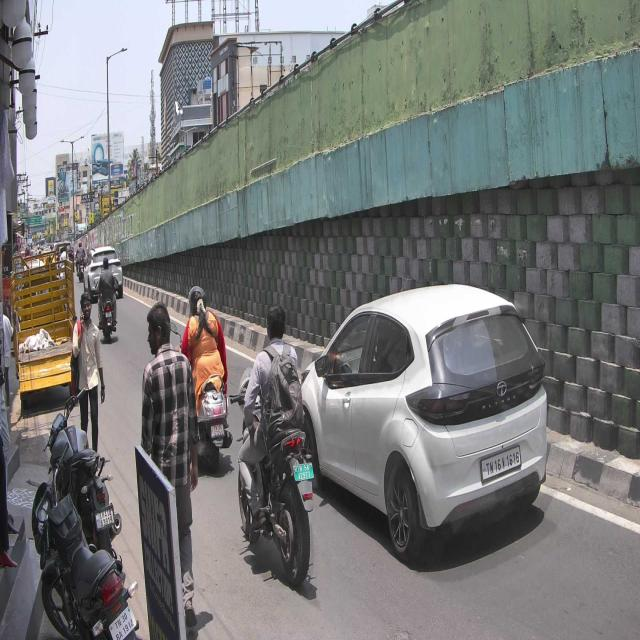single_rider: (227, 301, 318, 592)
